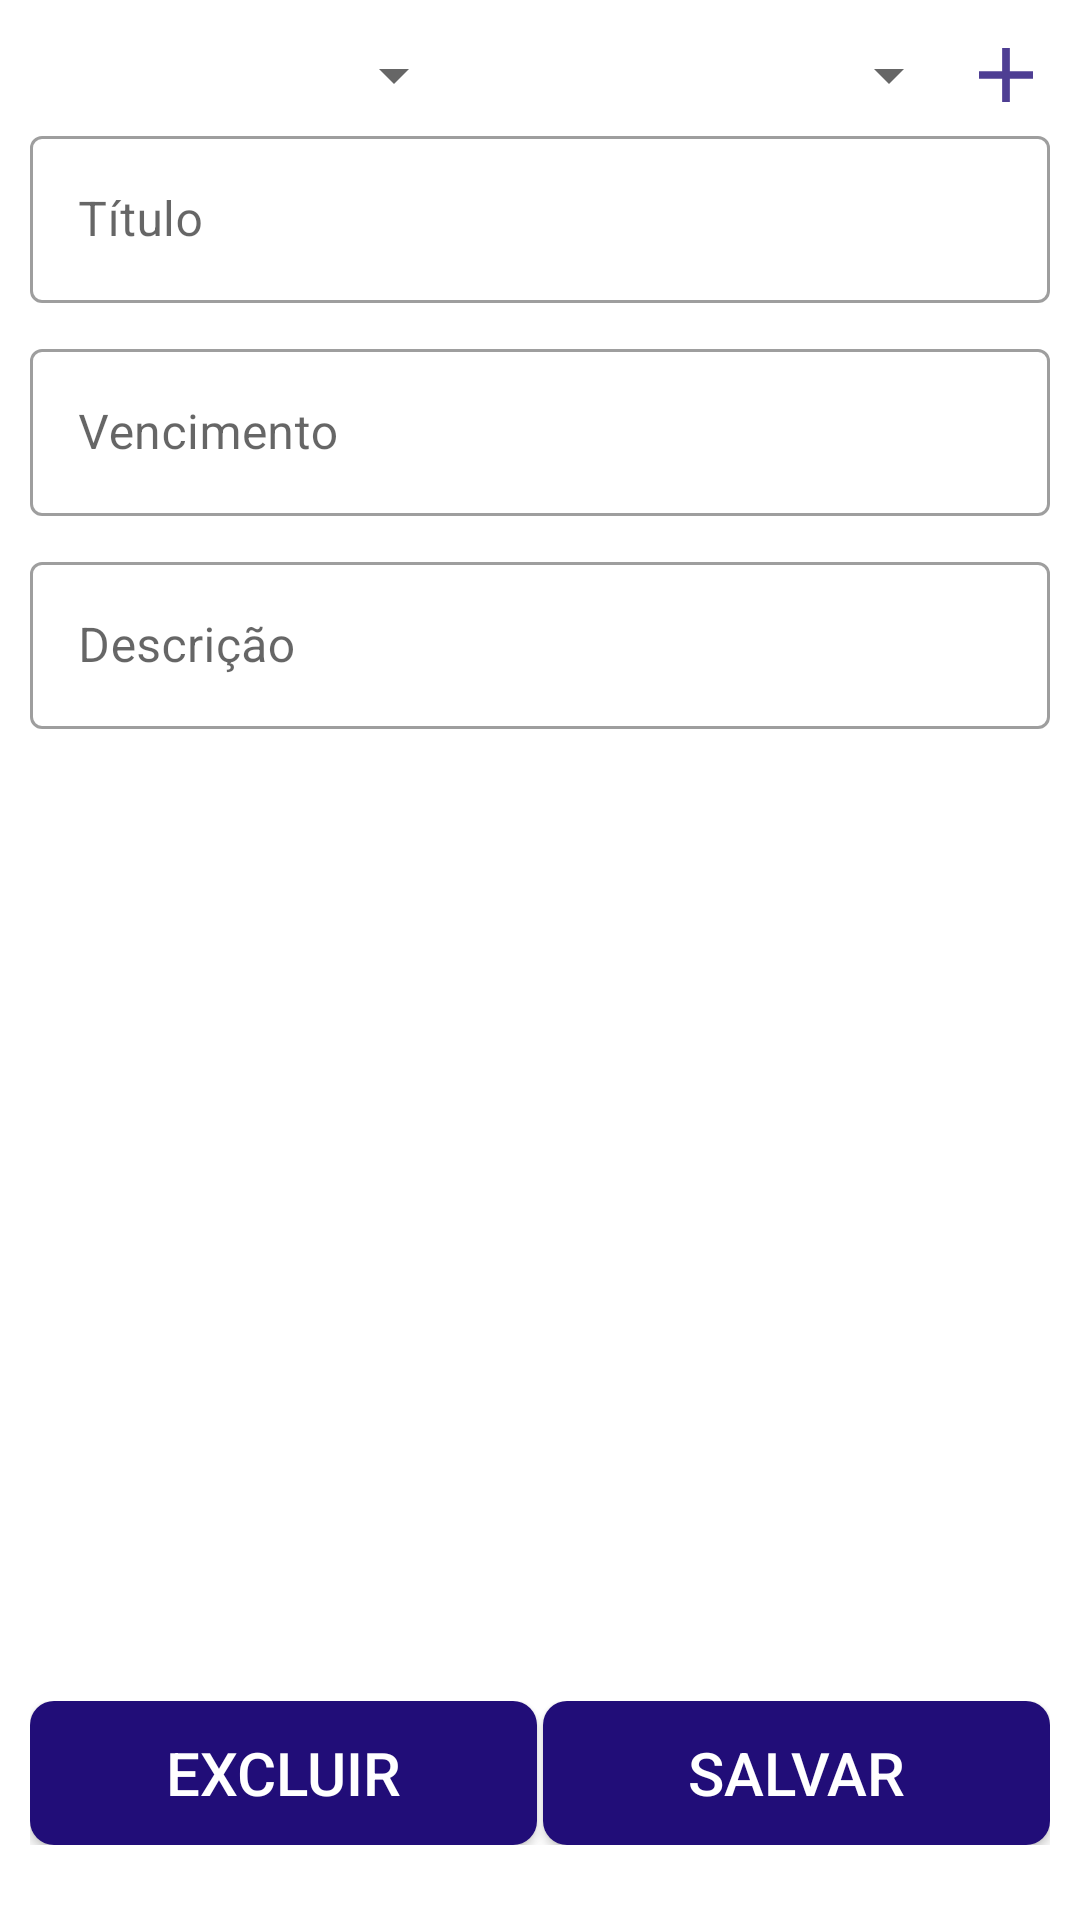

Where to tap for icons on this 1080×1920 app screen, as (x=x, y=y):
add: (x=1006, y=75)
